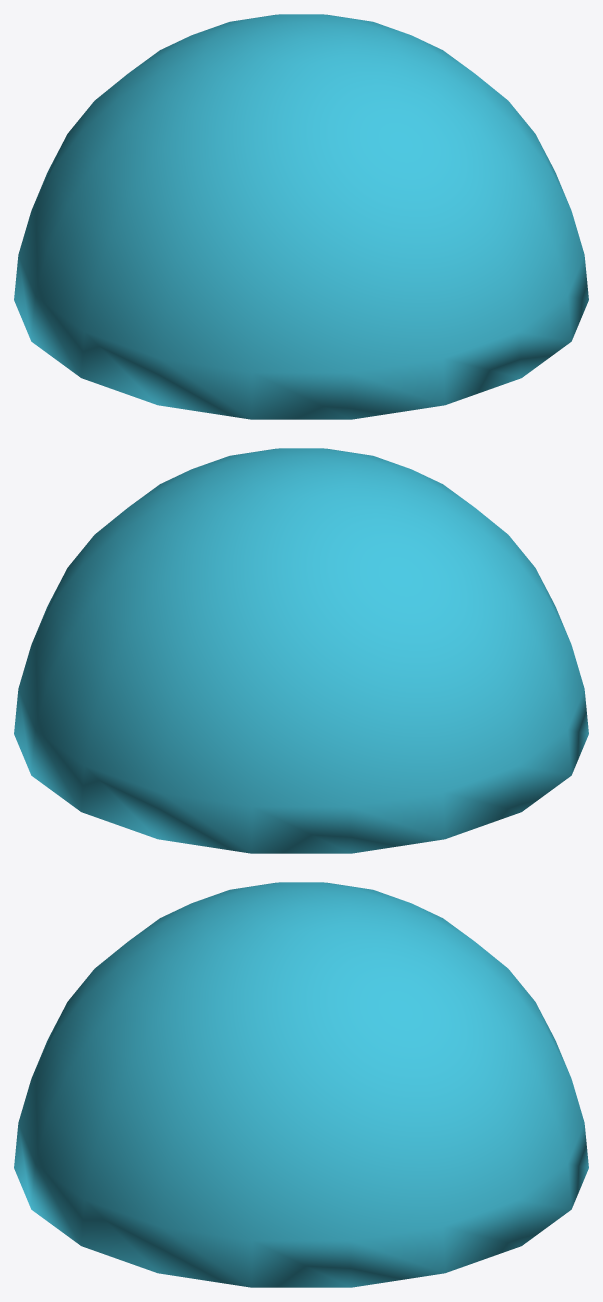
Rendered from seesaw.dae.
The picture shows the model from 3 angles, top to bottom: view 1: azimuth 30°, elevation 25°; view 2: azimuth 150°, elevation 25°; view 3: azimuth 270°, elevation 25°; orthographic projection.
Parts seen in each view (by area): view 1: globe; view 2: globe; view 3: globe.
Boxes of the visible parts, box(x1,y1,x2,y2) form: globe: box(14, 14, 588, 419); globe: box(14, 448, 588, 853); globe: box(14, 882, 588, 1287).
Bounding box in the file's own units: 42.09 × 21.51 × 42.74.
